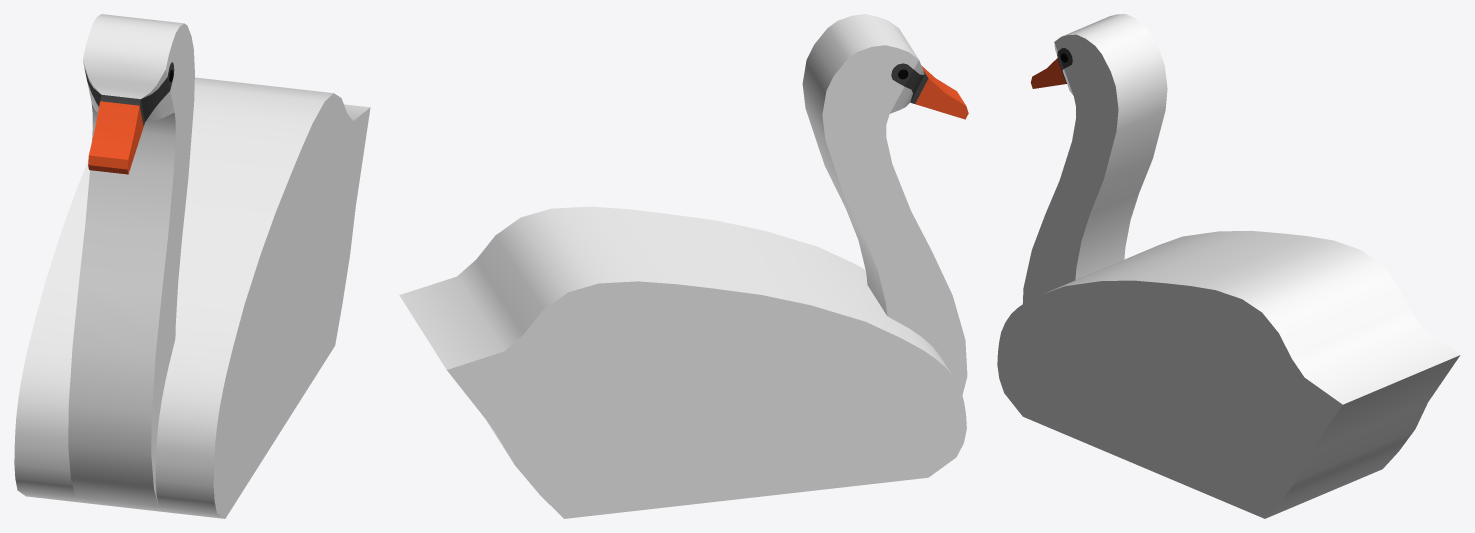
The model's file is swan.fbx.
3 views of the same model, side by side, from view 1: azimuth 30°, elevation 25°; view 2: azimuth 150°, elevation 25°; view 3: azimuth 270°, elevation 25° (orthographic). The views are drawn at different scales.
Parts seen in each view (by area): view 1: Plane.107; view 2: Plane.107; view 3: Plane.107.
Boxes of the visible parts, left/top/right/bottom form: Plane.107: left=14, top=14, right=370, bottom=518; Plane.107: left=399, top=14, right=968, bottom=518; Plane.107: left=997, top=14, right=1460, bottom=518.
Size of the model in its own units: 205 by 184 by 205.
1 material, 1 textured.
